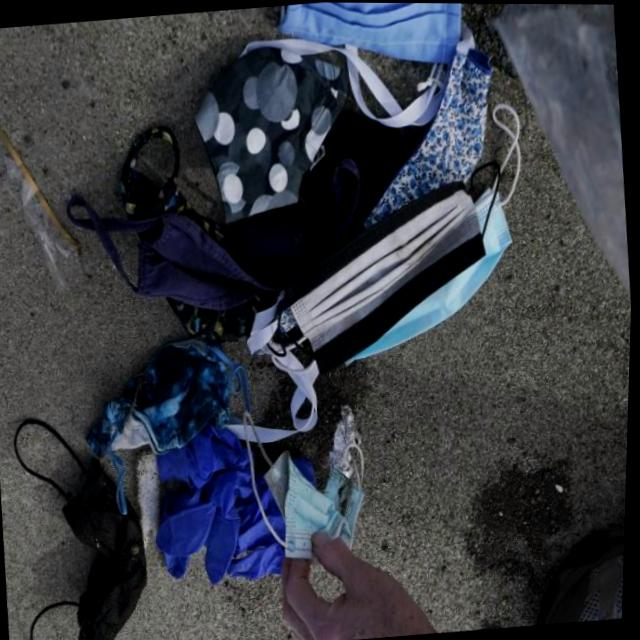Mask: (251, 158, 518, 383), (325, 98, 540, 368), (60, 151, 372, 325), (109, 113, 285, 350), (7, 407, 161, 640), (76, 329, 263, 519), (183, 37, 362, 228), (230, 1, 471, 141), (347, 14, 505, 227), (239, 397, 378, 577)
Plastic: (324, 400, 368, 480)
